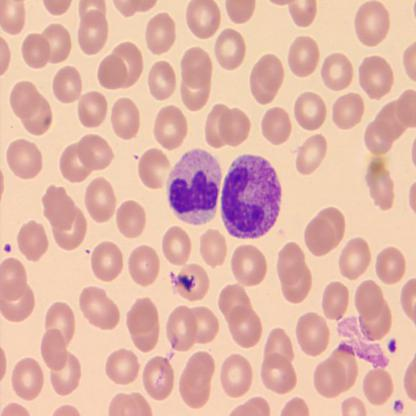Band Neutrophil: (220, 152, 282, 242), (163, 146, 225, 228)
